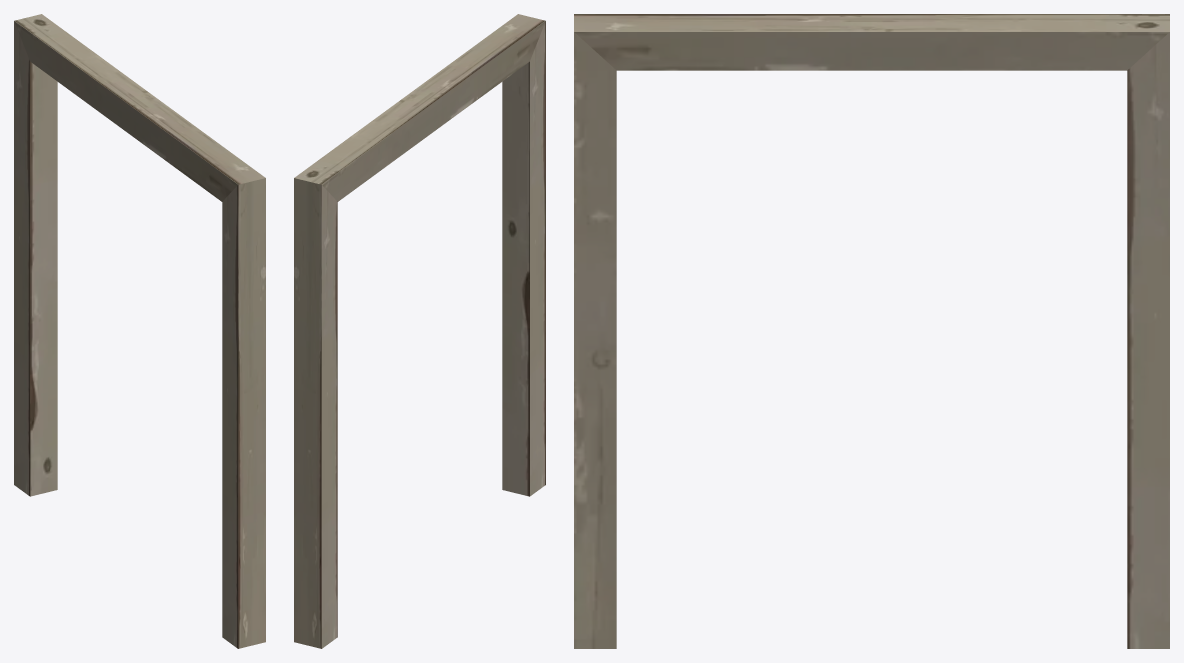
The picture shows the model from 3 angles, left to right: view 1: azimuth 30°, elevation 25°; view 2: azimuth 150°, elevation 25°; view 3: azimuth 270°, elevation 25°; orthographic projection. The views are drawn at different scales.
Parts seen in each view (by area): view 1: body0_model0_lod0_mesh0; view 2: body0_model0_lod0_mesh0; view 3: body0_model0_lod0_mesh0.
Part boxes in pixels (bbox=[...]): body0_model0_lod0_mesh0: bbox=[14, 14, 265, 648]; body0_model0_lod0_mesh0: bbox=[294, 14, 545, 648]; body0_model0_lod0_mesh0: bbox=[574, 14, 1169, 648].
Size of the model in its own units: 8 by 128 by 112.
1 material, 1 textured.
